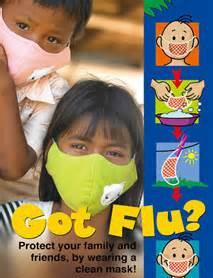OK: (51, 120, 141, 210), (1, 3, 74, 88)
